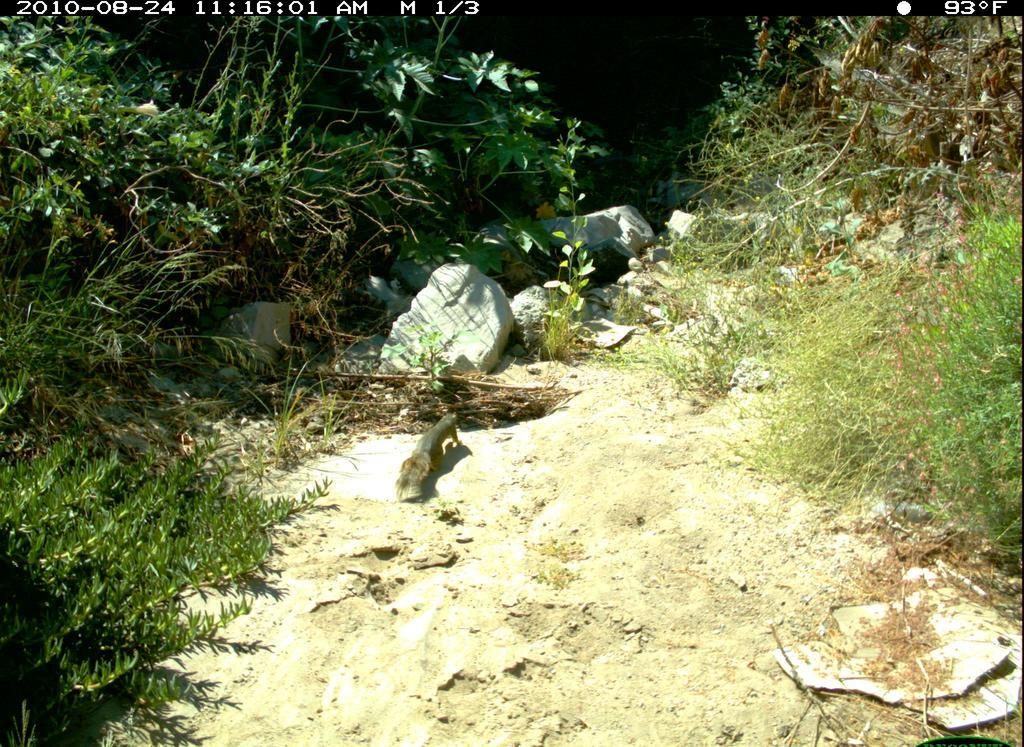squirrel: (385, 409, 470, 498)
